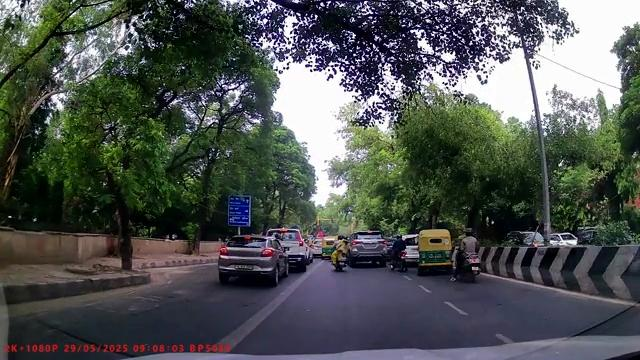motorcycle_with_helmet: (449, 230, 485, 283)
passenger_with_helmet: (329, 235, 351, 271)
